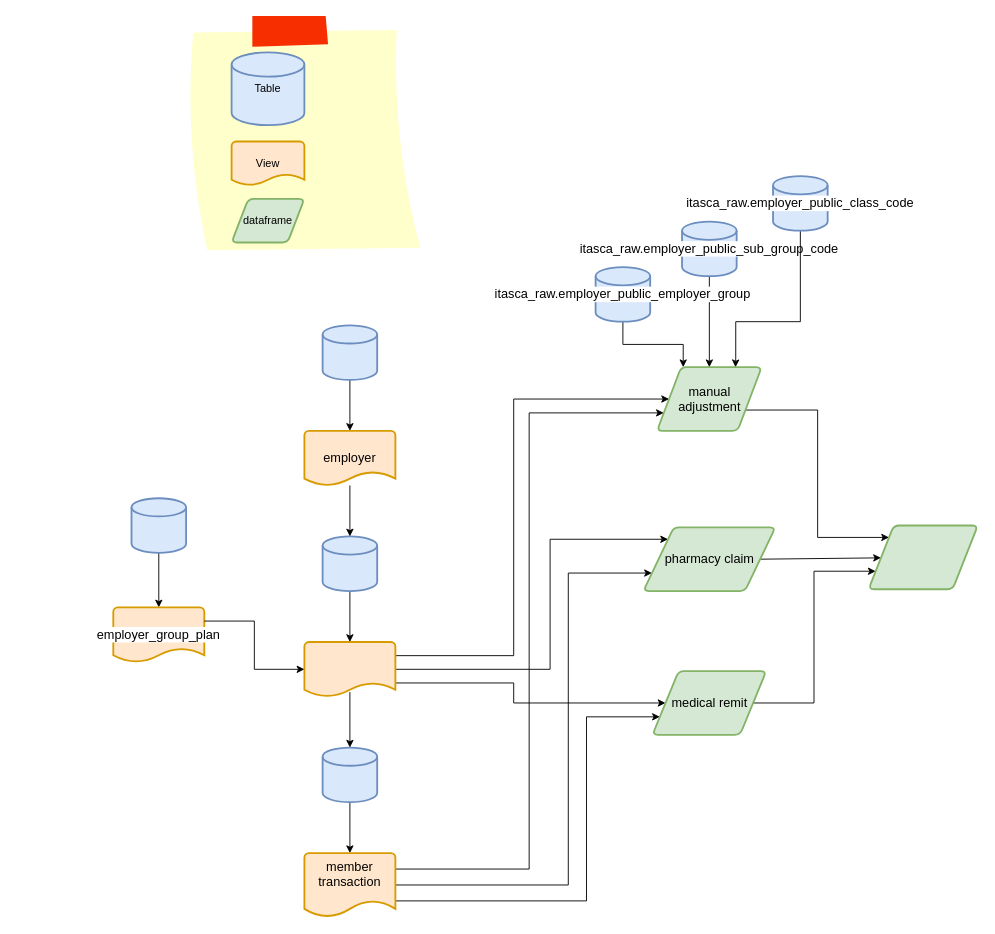
This 995x934 diagram has some shape labels left out. Each missing label, with the box of its shape:
destination dataframe: (867, 524, 978, 590)
itasca_curated.member: (321, 746, 378, 803)
itasca_raw.employer_public_employer: (321, 324, 378, 380)
itasca_raw.employer_public_employer_group_plan: (130, 497, 187, 553)
itasca_raw.finance_public_transaction: (321, 535, 378, 592)
transaction: (303, 641, 396, 697)
